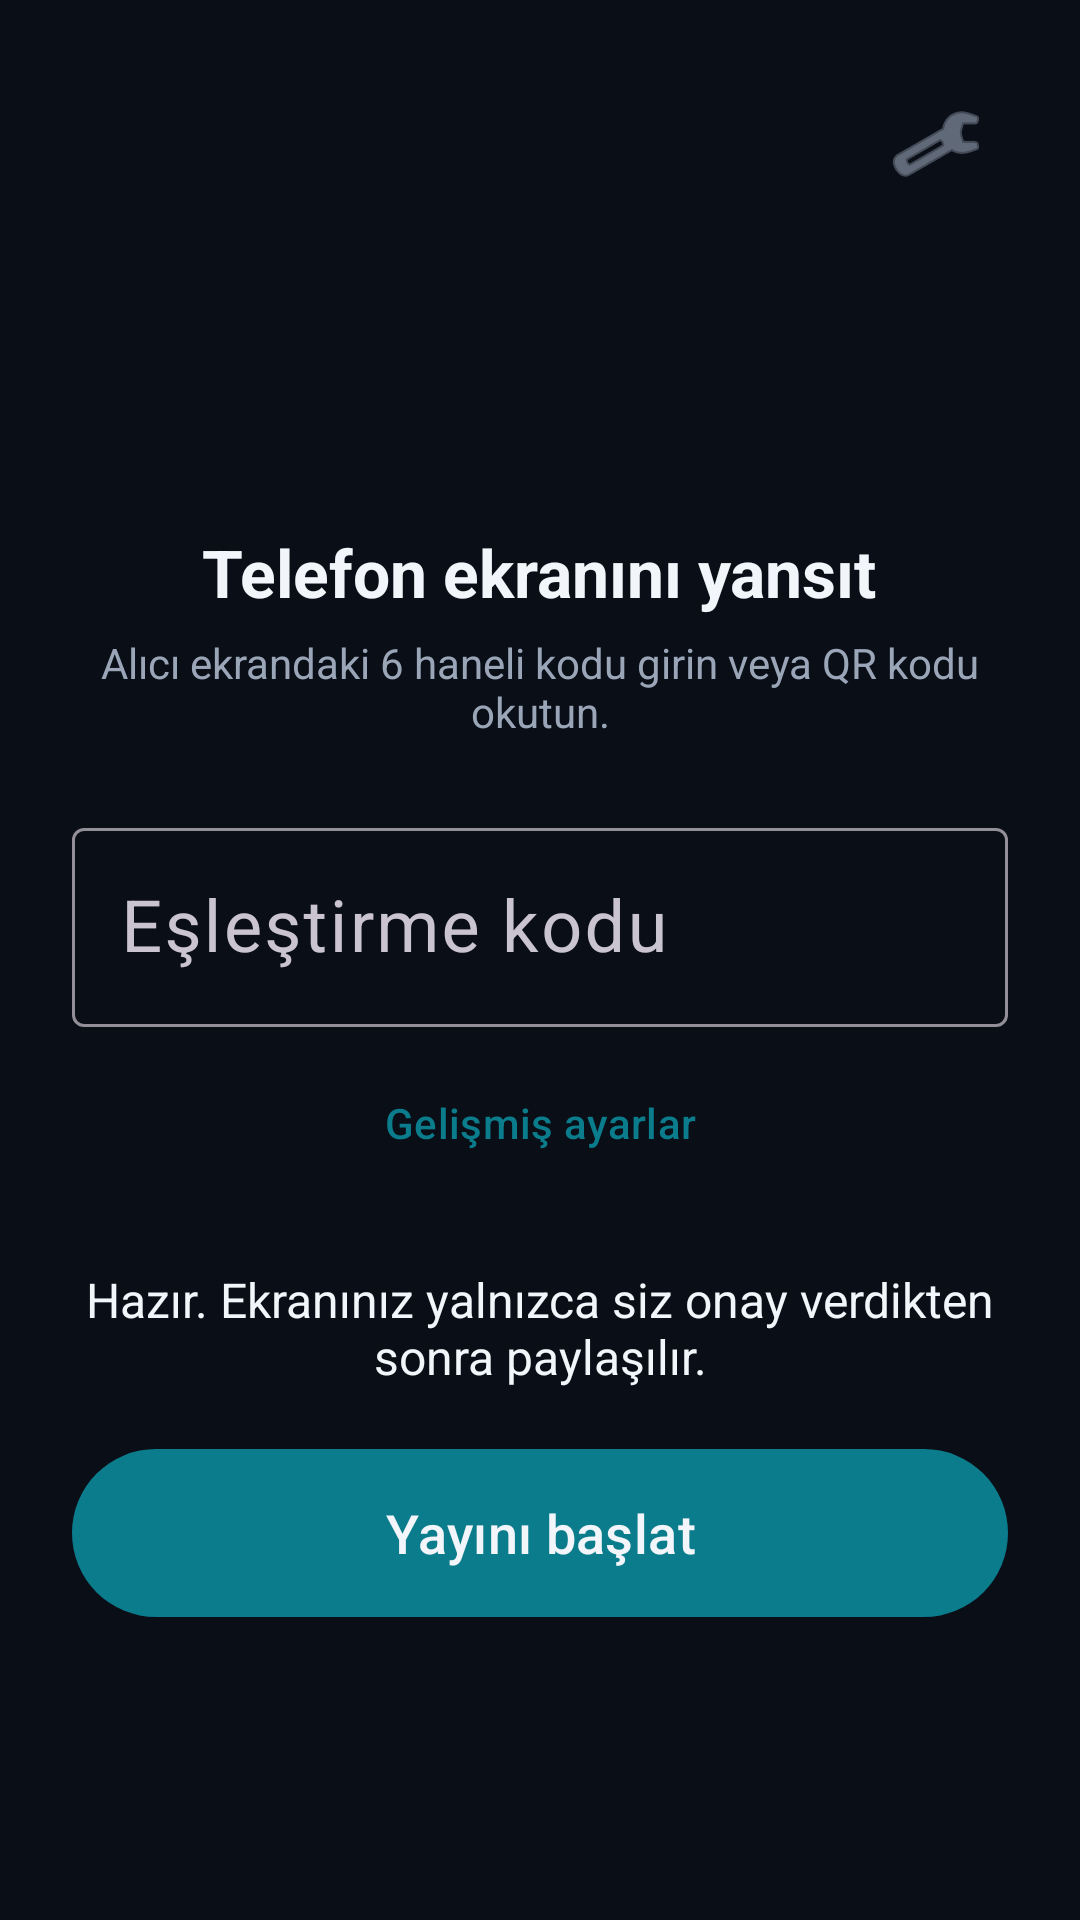

Icons on this 1080 x 1920 Android screen, each with the point to tap as point (x, y):
Ayarlar: point (936, 144)
